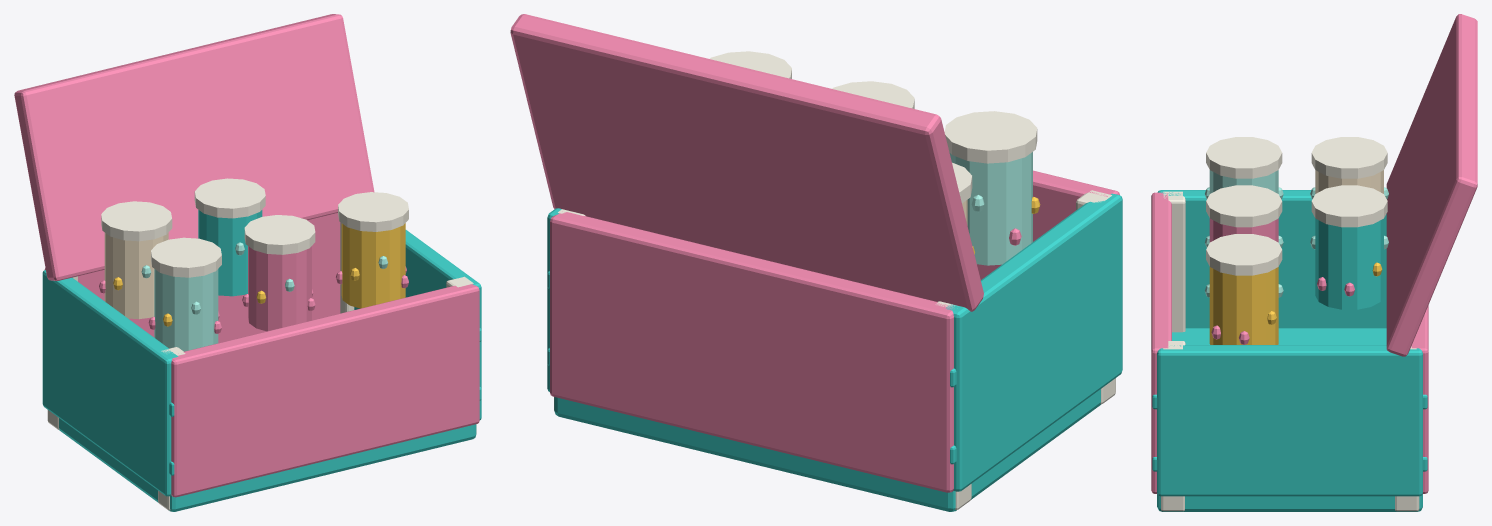
Rendered from SmallSprinkleCrate.glb.
The picture shows the model from 3 angles, left to right: view 1: azimuth 30°, elevation 25°; view 2: azimuth 150°, elevation 25°; view 3: azimuth 270°, elevation 25°; orthographic projection. The views are drawn at different scales.
Visible parts, largest first — view 1: open hinged lid, front or back wall, side wall, crate floor, front or back wall.001, glass sprinkle jar 3, glass sprinkle jar 2, glass sprinkle jar 1, glass sprinkle jar 4, glass sprinkle jar 5, side wall.001, cream jar cap 2 (+4 smaller); view 2: open hinged lid, front or back wall.001, side wall, crate floor, glass sprinkle jar 1, cream jar cap 1, front or back wall, cream jar cap 2, cream jar cap 3; view 3: side wall.001, open hinged lid, side wall, crate floor, glass sprinkle jar 5, glass sprinkle jar 3, front or back wall, cream jar cap 5, cream jar cap 2, cream jar cap 4, cream jar cap 3, cream jar cap 1 (+7 smaller).
Boxes of the visible parts, bbox=[...] form: open hinged lid: bbox=[14, 14, 374, 280]; front or back wall: bbox=[171, 284, 479, 497]; side wall: bbox=[42, 270, 178, 496]; crate floor: bbox=[59, 418, 476, 511]; front or back wall.001: bbox=[44, 213, 340, 343]; glass sprinkle jar 3: bbox=[341, 223, 405, 308]; glass sprinkle jar 2: bbox=[248, 246, 311, 331]; glass sprinkle jar 1: bbox=[154, 269, 218, 351]; glass sprinkle jar 4: bbox=[104, 232, 168, 319]; glass sprinkle jar 5: bbox=[198, 210, 262, 296]; side wall.001: bbox=[354, 230, 481, 420]; cream jar cap 2: bbox=[244, 215, 315, 254]; open hinged lid: bbox=[510, 14, 983, 311]; front or back wall.001: bbox=[550, 211, 953, 492]; side wall: bbox=[946, 193, 1122, 491]; crate floor: bbox=[554, 389, 1100, 511]; glass sprinkle jar 1: bbox=[949, 152, 1032, 265]; cream jar cap 1: bbox=[944, 111, 1037, 163]; front or back wall: bbox=[977, 170, 1119, 279]; cream jar cap 2: bbox=[832, 81, 914, 108]; cream jar cap 3: bbox=[709, 51, 791, 78]; side wall.001: bbox=[1157, 345, 1422, 496]; open hinged lid: bbox=[1386, 14, 1477, 356]; side wall: bbox=[1157, 190, 1386, 328]; crate floor: bbox=[1157, 328, 1422, 511]; glass sprinkle jar 5: bbox=[1315, 218, 1383, 309]; glass sprinkle jar 3: bbox=[1209, 267, 1278, 344]; front or back wall: bbox=[1151, 192, 1171, 493]; cream jar cap 5: bbox=[1311, 185, 1387, 227]; cream jar cap 2: bbox=[1206, 185, 1282, 227]; cream jar cap 4: bbox=[1311, 137, 1387, 178]; cream jar cap 3: bbox=[1206, 234, 1282, 275]; cream jar cap 1: bbox=[1206, 137, 1282, 178].
Bounding box in the file's own units: 0.86 × 0.8159 × 0.7116.
